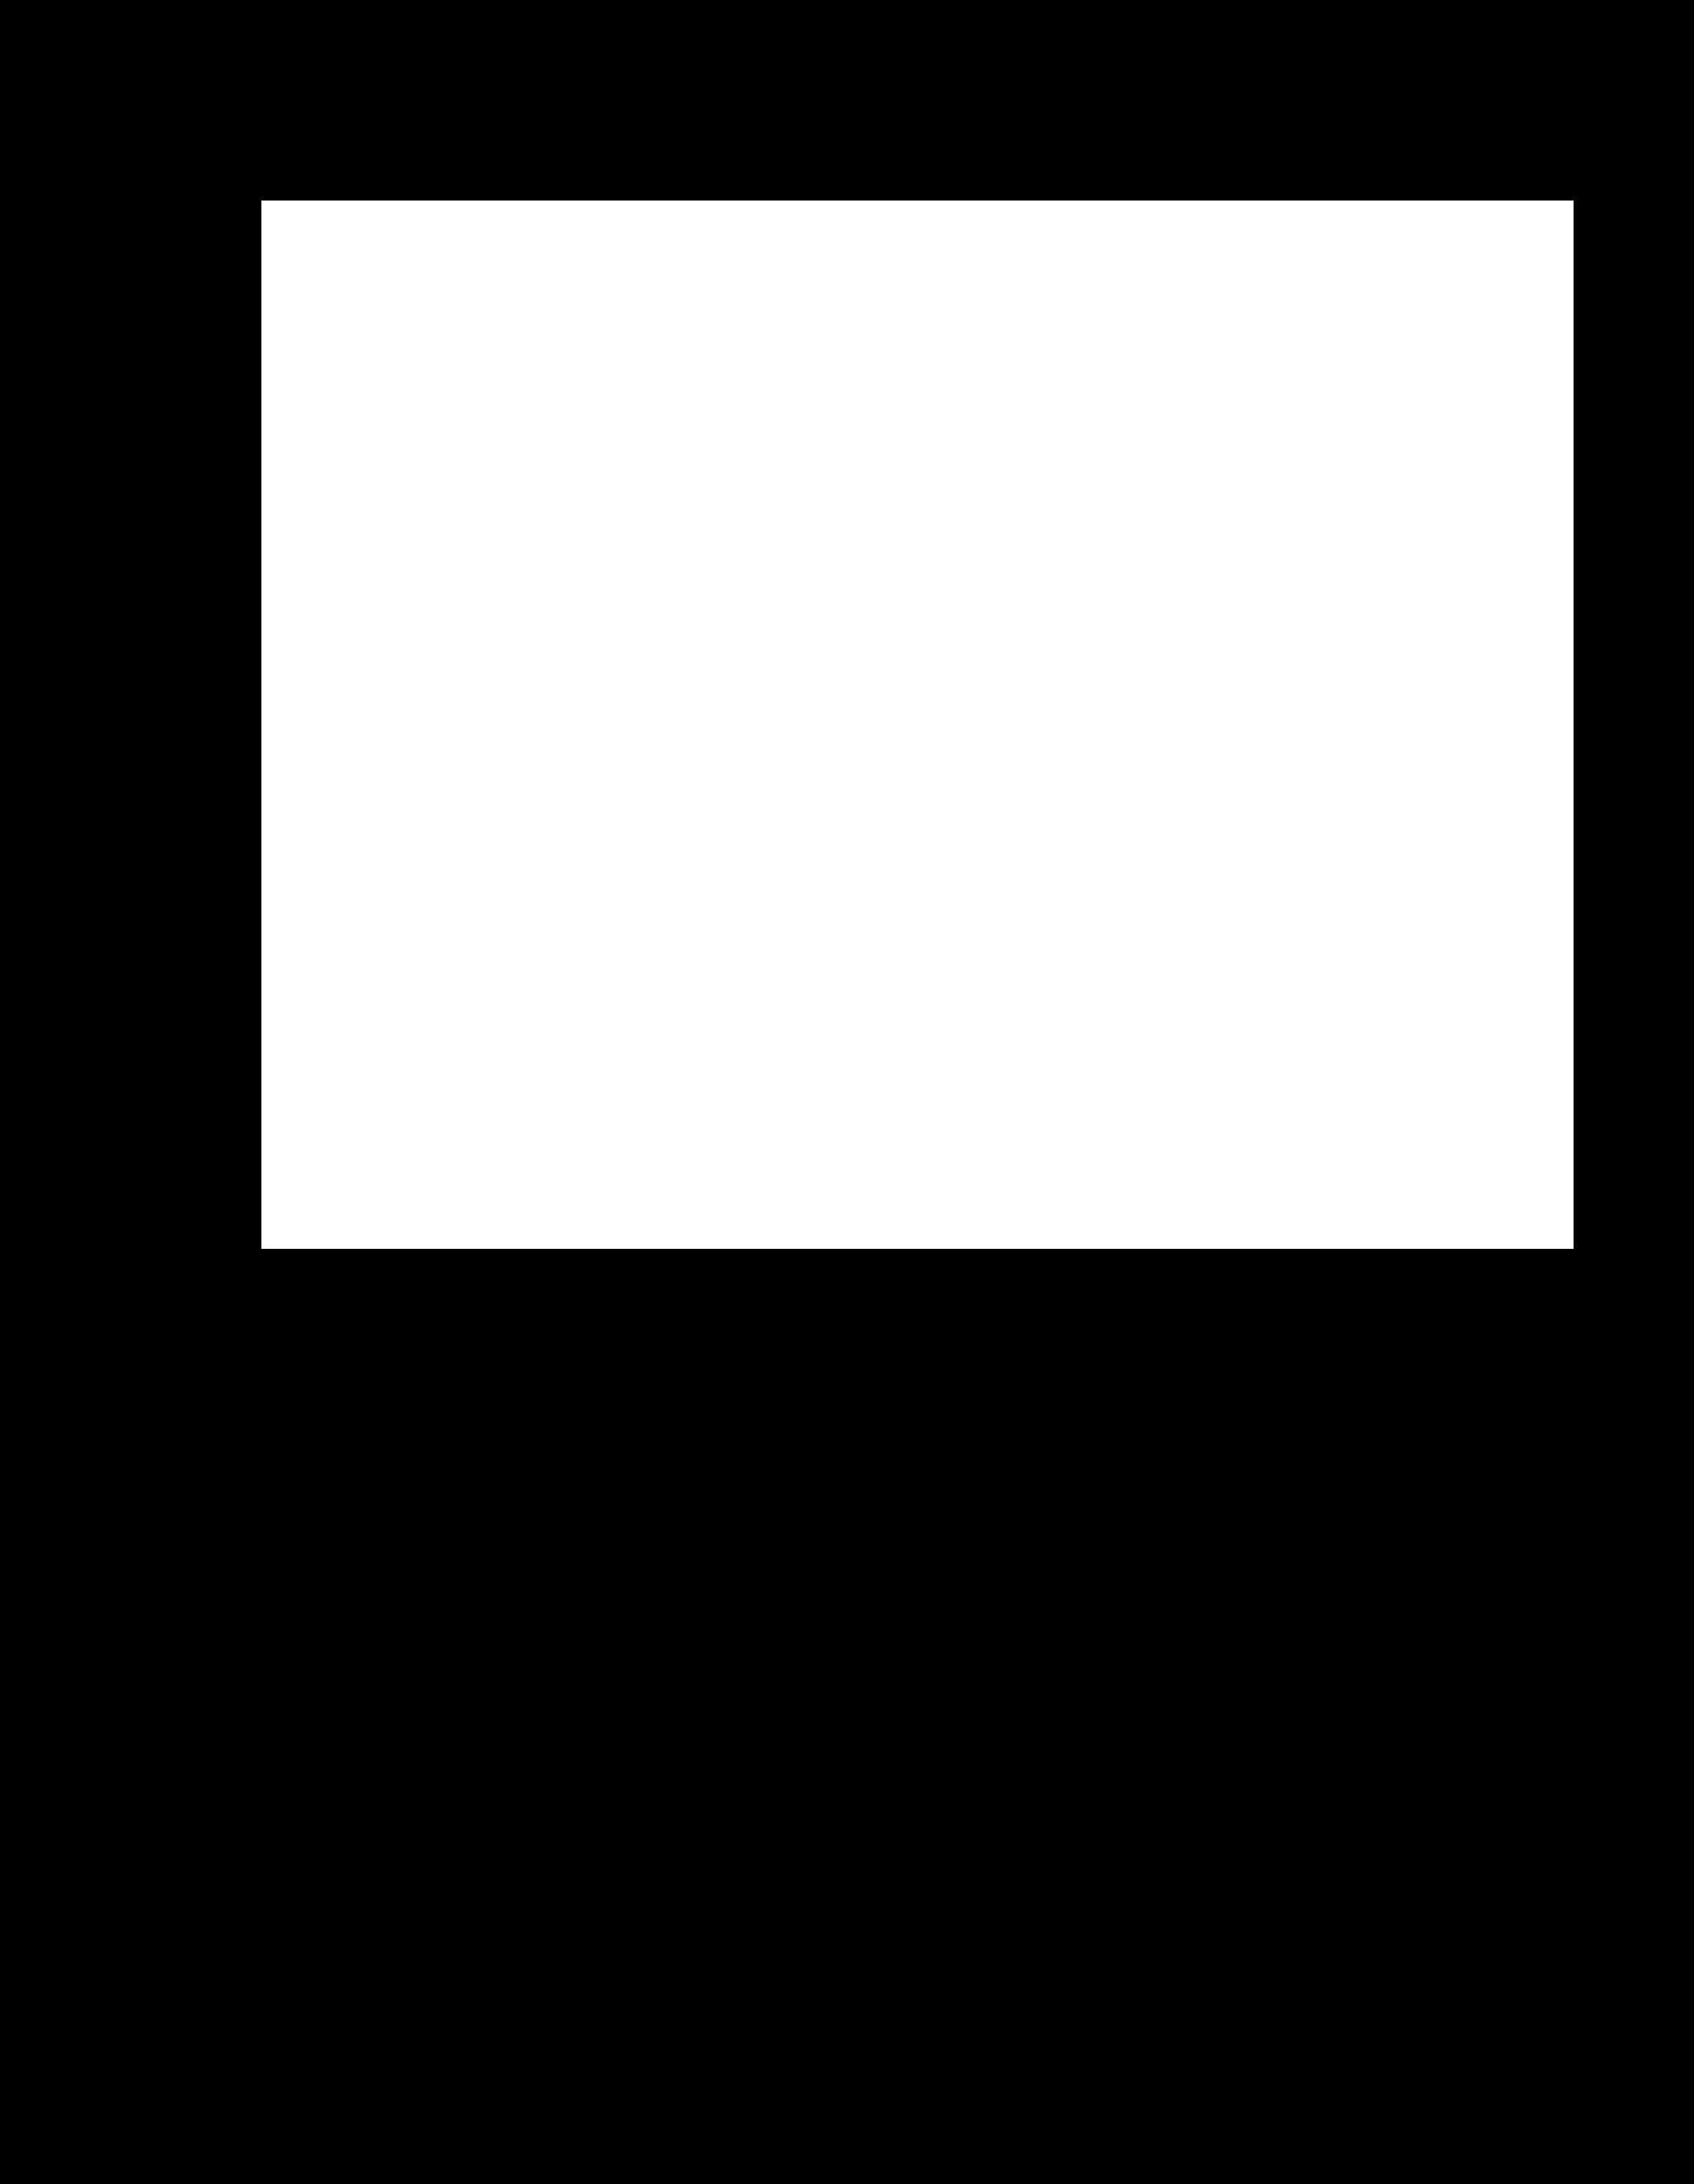table: (262, 200, 1574, 1248)
